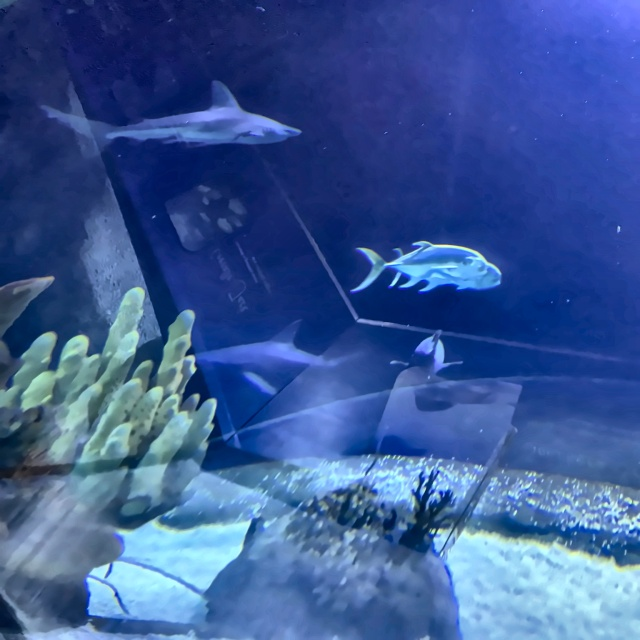fish: (354, 242, 483, 289), (395, 246, 510, 296), (398, 334, 455, 387)
shark: (38, 80, 308, 146), (175, 330, 354, 406)
